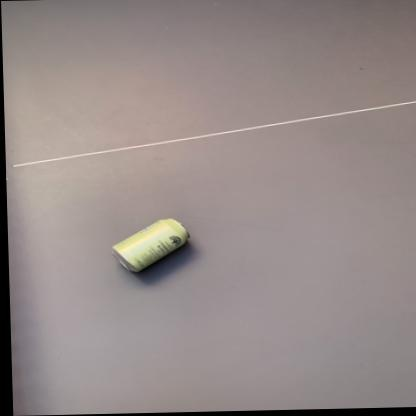trash: (112, 218, 188, 271)
